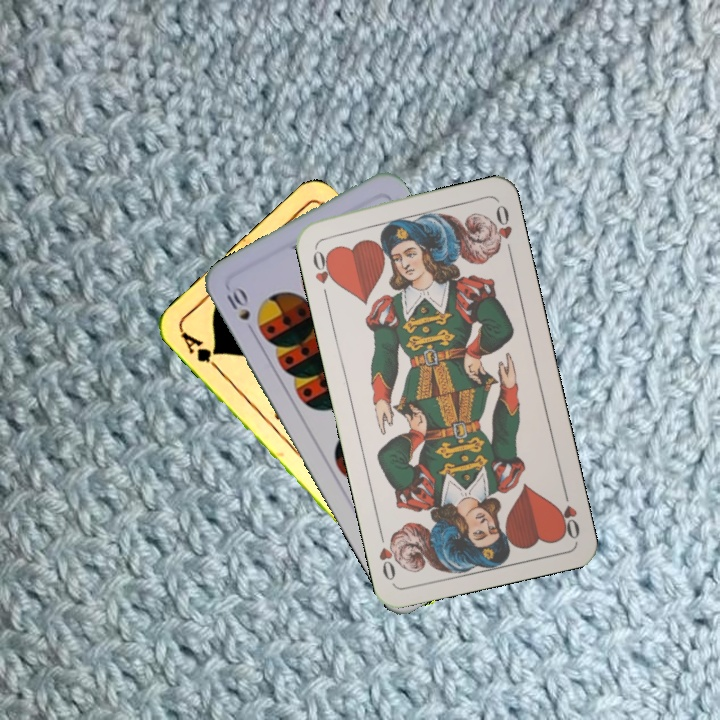GA: (176, 327, 223, 374)
HO: (309, 242, 339, 301), (553, 483, 583, 542)
S10: (222, 283, 258, 338)
